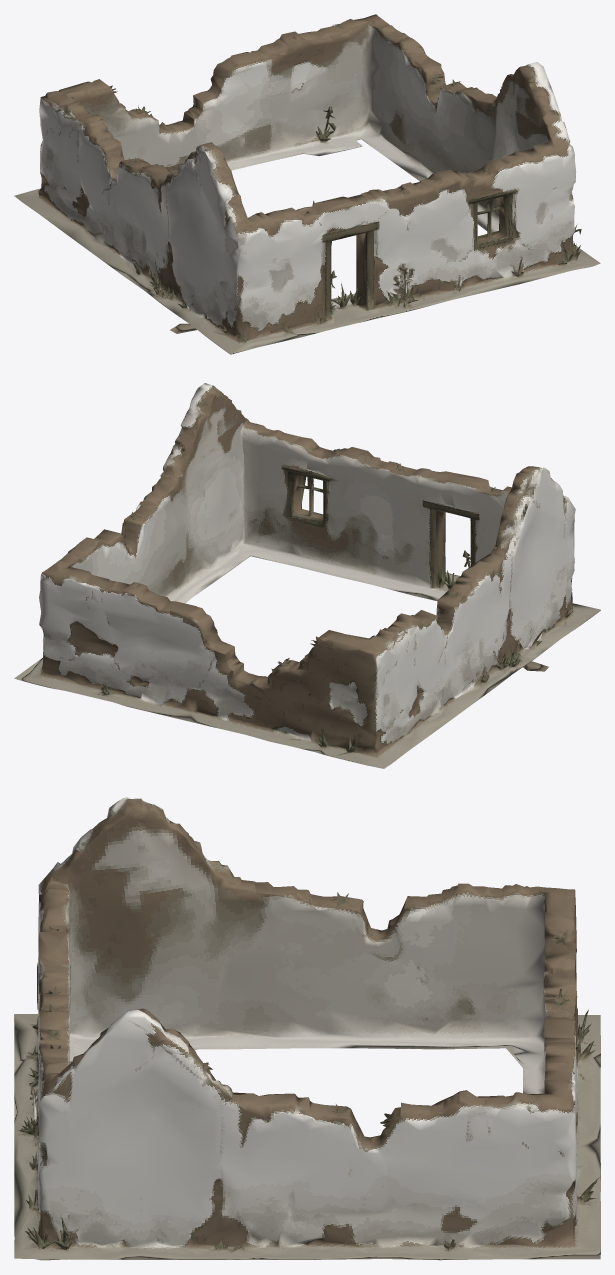
Rendered from tapera.glb.
3 views of the same model, one above another, from view 1: azimuth 30°, elevation 25°; view 2: azimuth 150°, elevation 25°; view 3: azimuth 270°, elevation 25° (orthographic). The views are drawn at different scales.
Visible parts, largest first — view 1: tripo_node_77d3d0ab-bac3-46e5-8b84-3699589dca04; view 2: tripo_node_77d3d0ab-bac3-46e5-8b84-3699589dca04; view 3: tripo_node_77d3d0ab-bac3-46e5-8b84-3699589dca04.
Boxes of the visible parts, <box> form: tripo_node_77d3d0ab-bac3-46e5-8b84-3699589dca04: <box>14,14,600,354</box>; tripo_node_77d3d0ab-bac3-46e5-8b84-3699589dca04: <box>14,383,600,768</box>; tripo_node_77d3d0ab-bac3-46e5-8b84-3699589dca04: <box>14,797,600,1260</box>.
Size of the model in its own units: 2.05 by 1 by 2.06.
1 material, 1 textured.
